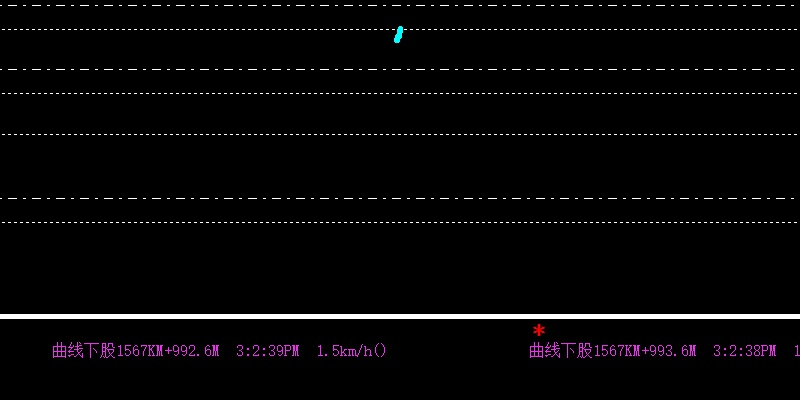face_1: (393, 24, 404, 43)
star: (530, 320, 547, 339)
